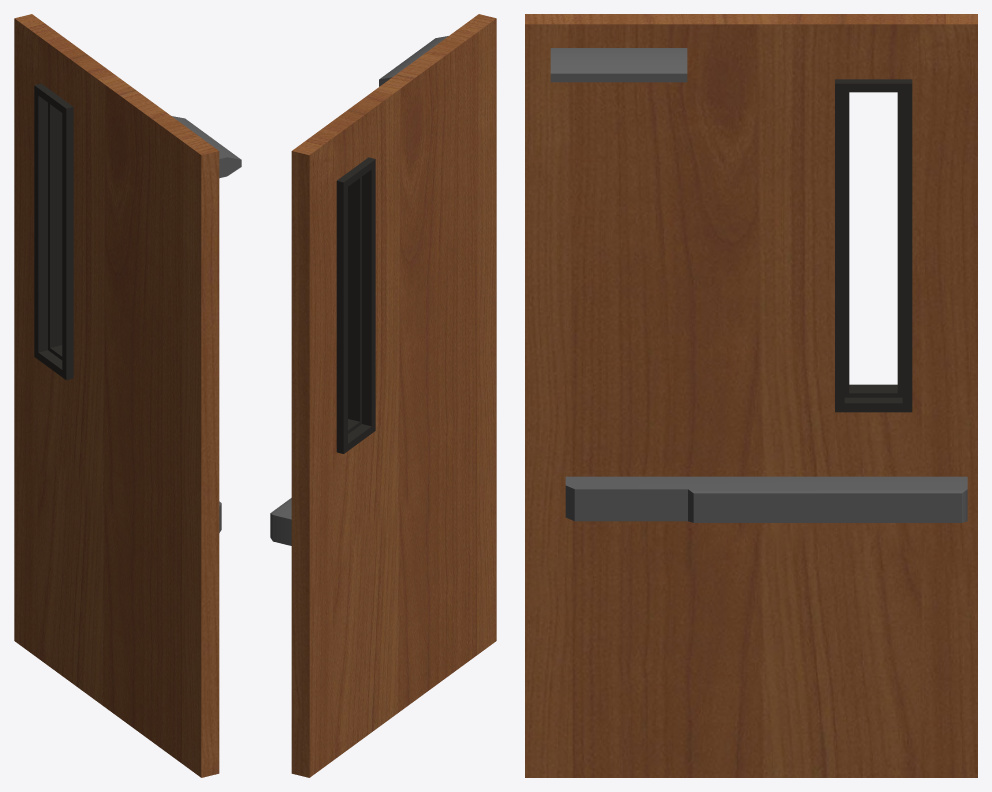
File: GYM_Door_Wood_Window.fbx
The picture shows the model from 3 angles, left to right: view 1: azimuth 30°, elevation 25°; view 2: azimuth 150°, elevation 25°; view 3: azimuth 270°, elevation 25°; orthographic projection. The views are drawn at different scales.
Visible parts, largest first — view 1: pCube253; view 2: pCube253; view 3: pCube253.
Part boxes in pixels (bbox=[...]): pCube253: bbox=[14, 14, 241, 777]; pCube253: bbox=[270, 14, 496, 777]; pCube253: bbox=[525, 14, 977, 777].
Bounding box in the file's own units: 0.2818 × 2.9 × 1.58.
3 materials, 1 textured.
